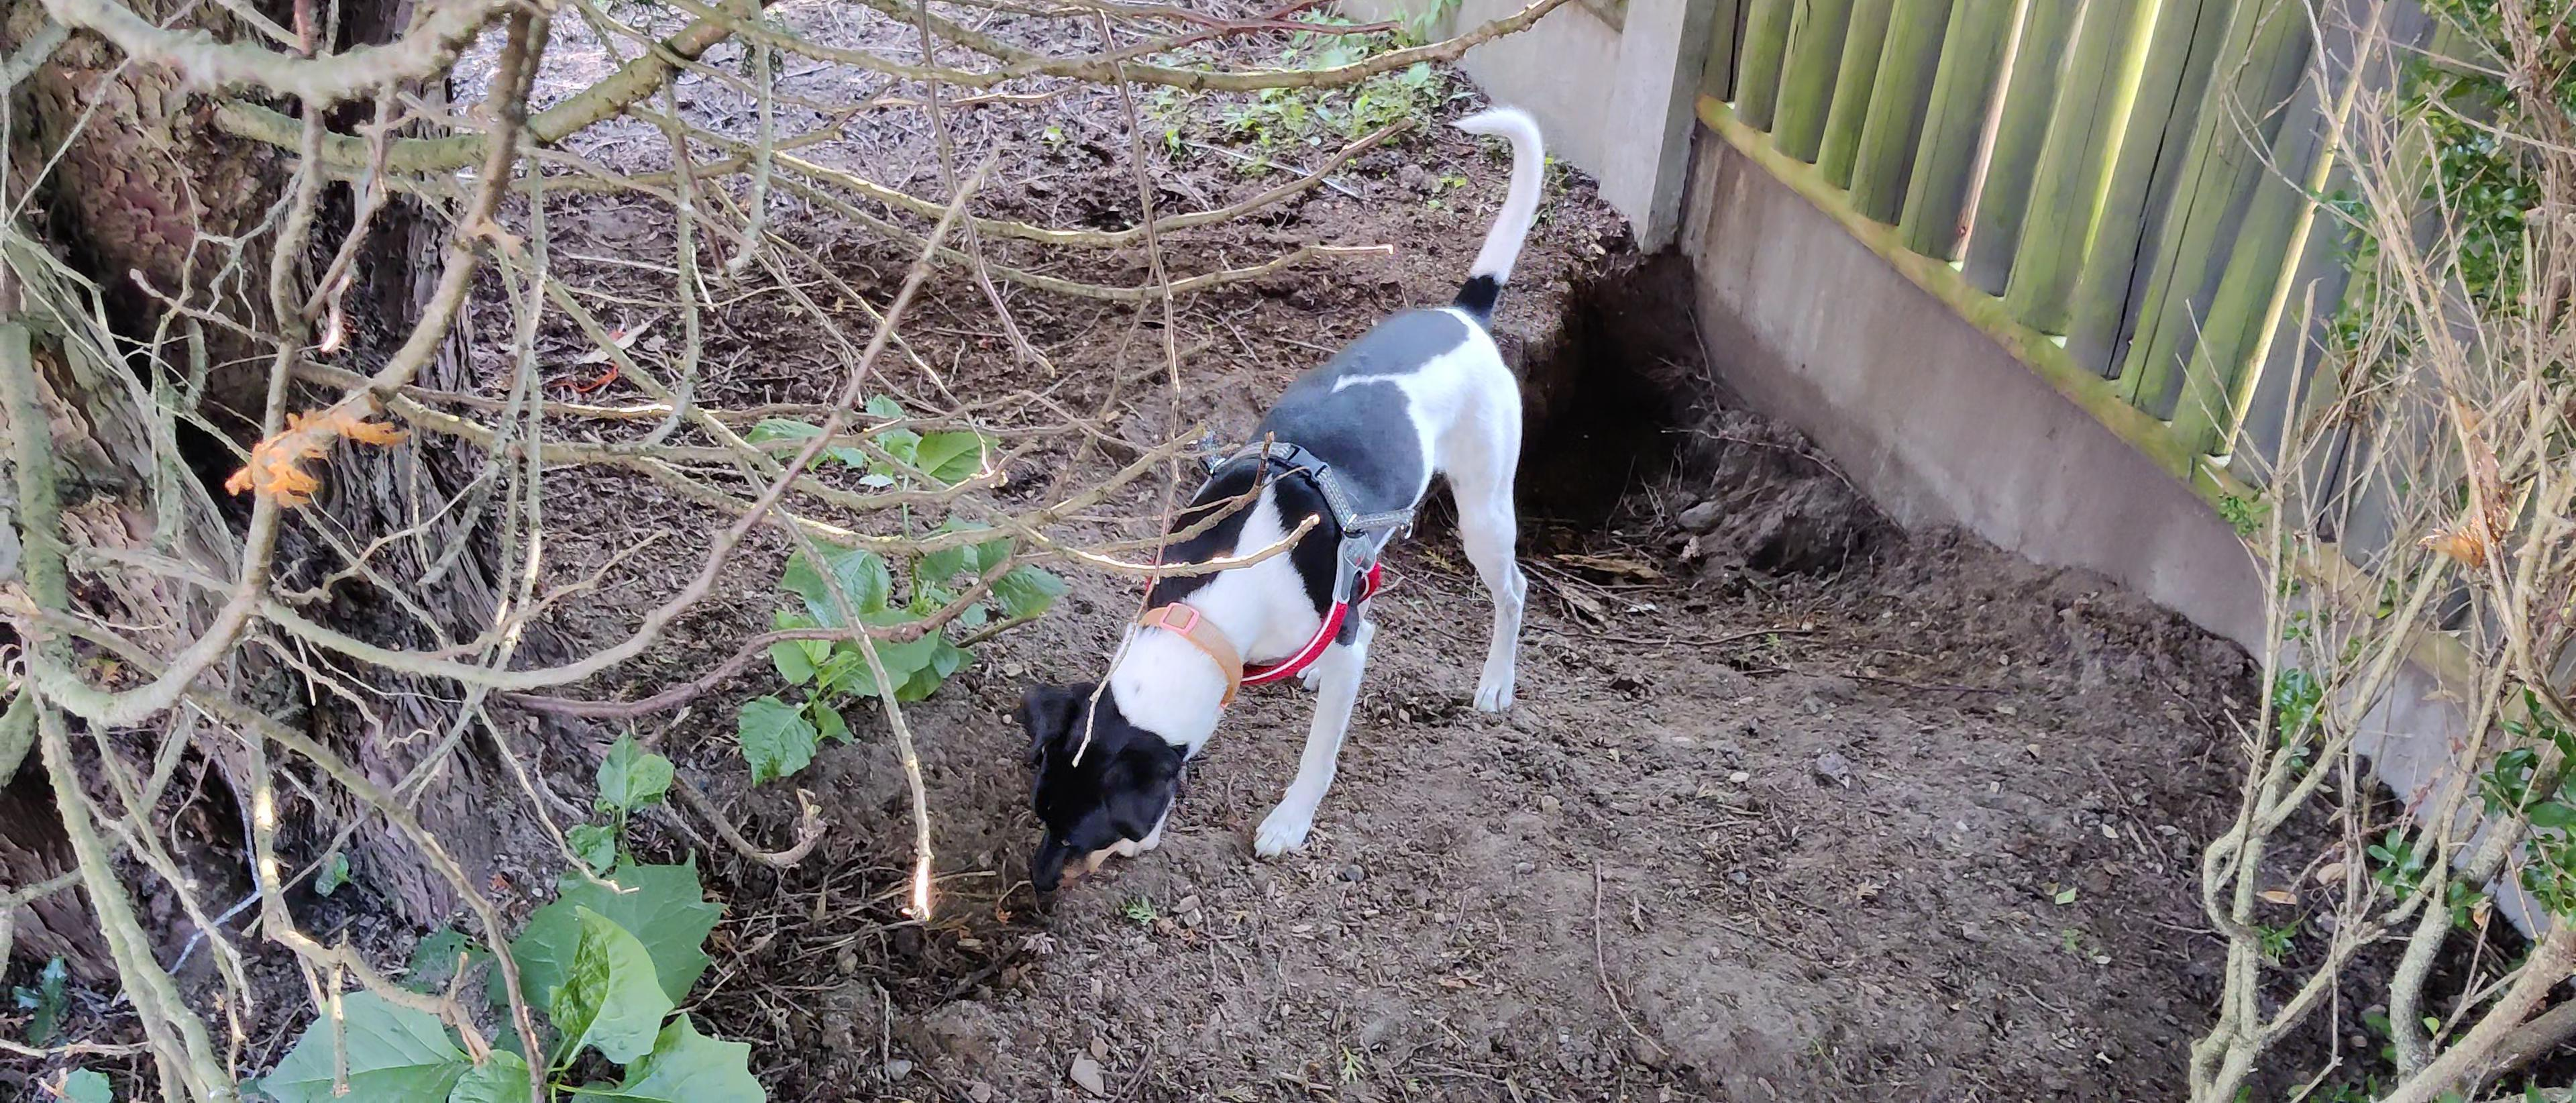Dog: (976, 84, 1561, 909)
